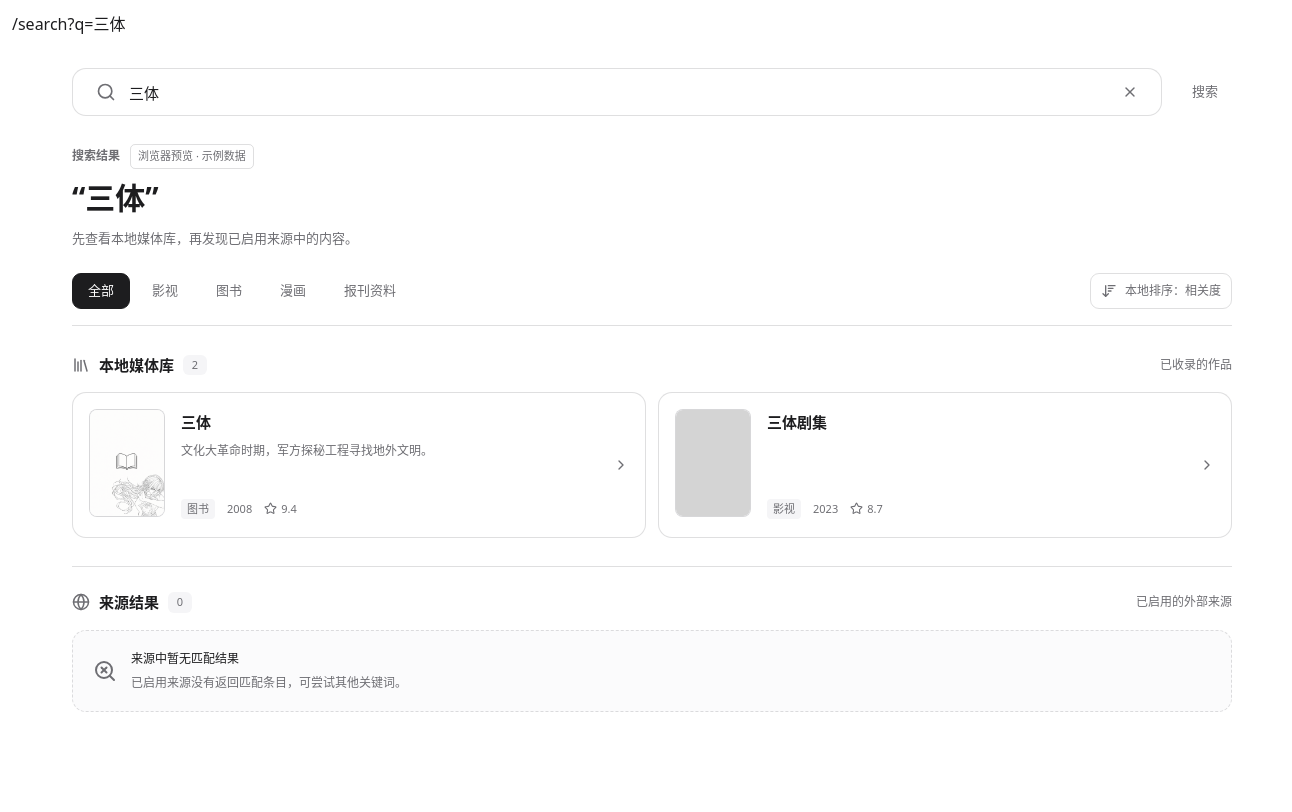
Test case: SearchPage result presentation and existing actions › passes category selection to both searches and preserves the URL query
The image size is (1292, 812).
Click the button "图书": point(229, 291) [200,273,258,309]
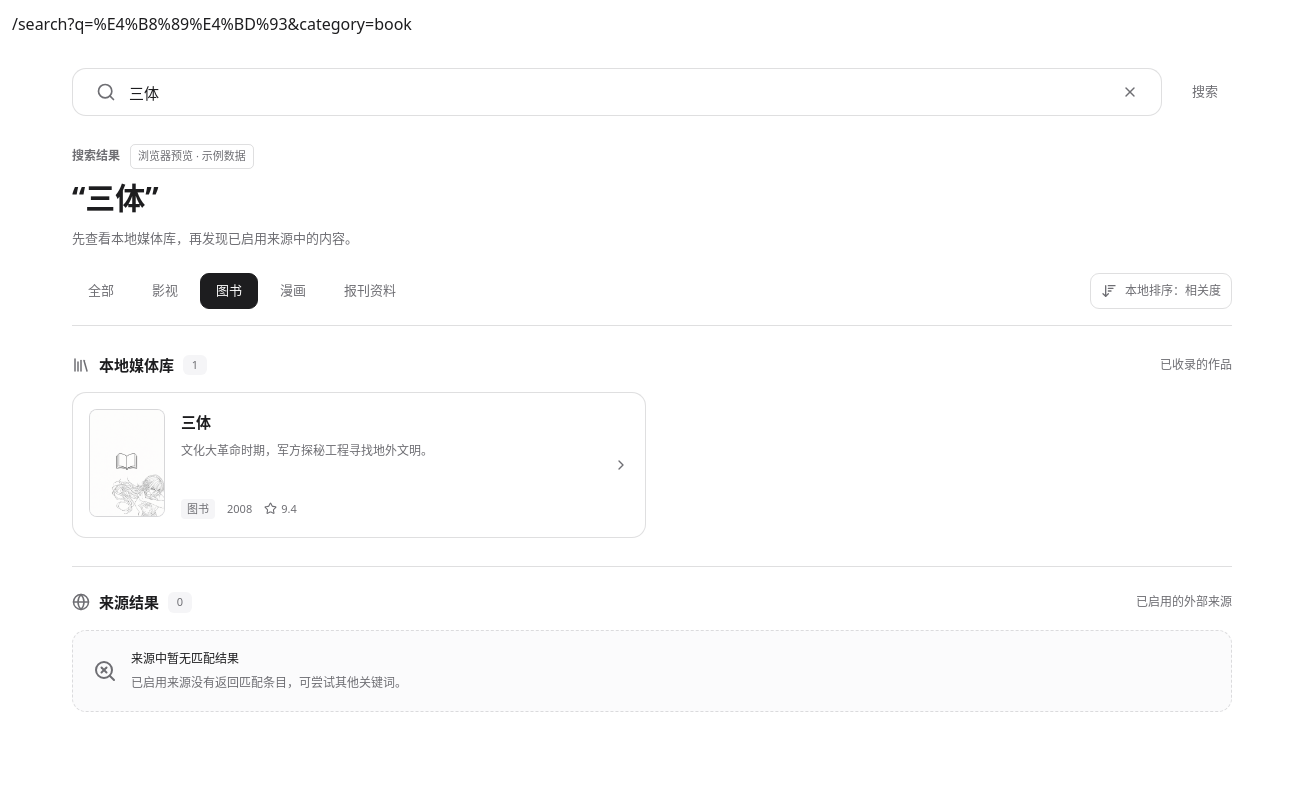
expect the text with test id "location" shows "category=book": met, box [68,13,412,35]
expect the button "查看作品：三体剧集" is gone: met
